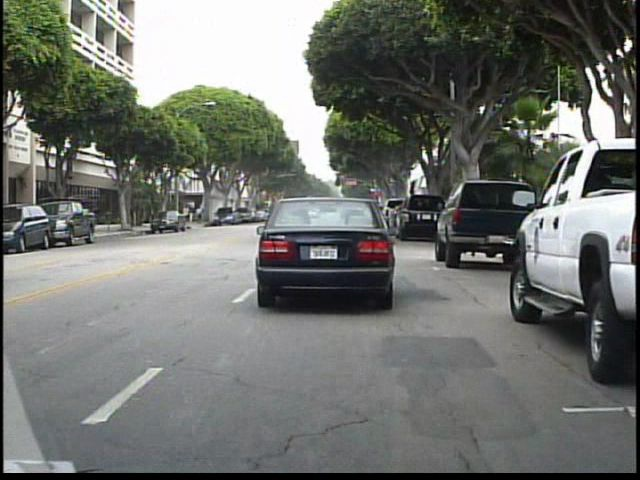person: (181, 202, 193, 227), (195, 201, 206, 226)
